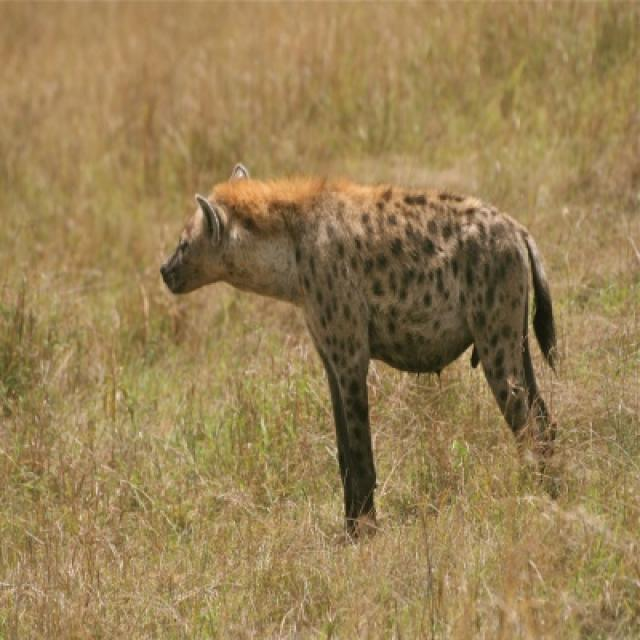hyena: (160, 163, 557, 534)
